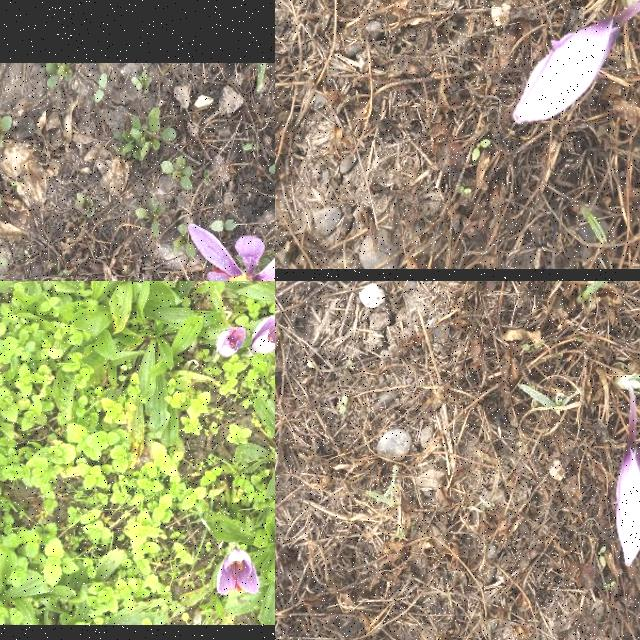flower: (513, 20, 619, 124), (187, 223, 275, 281), (615, 433, 640, 567), (216, 548, 260, 596), (249, 315, 275, 354), (216, 326, 247, 358)
